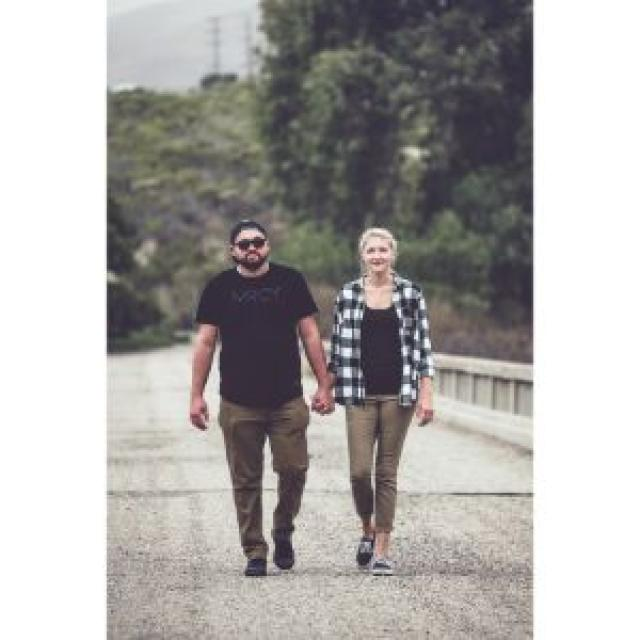nonfall: (175, 217, 324, 584), (331, 215, 447, 585)
